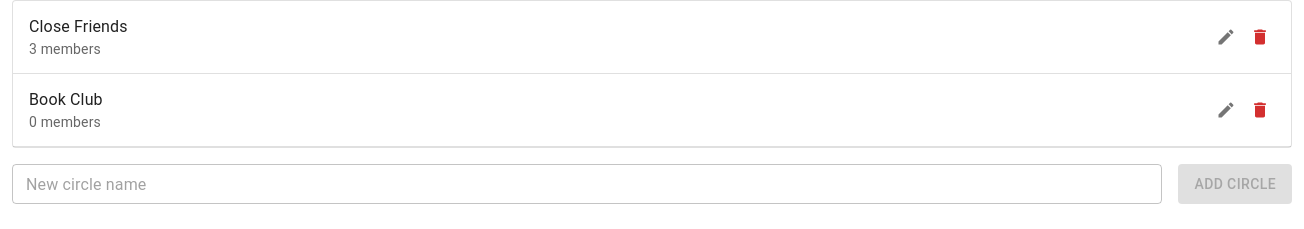
a duplicate-name rename failure shows an inline error and stays in edit mode
Click the button named "Edit" in the row of "Close Friends": {"x": 1226, "y": 37} 1211,22 -> 1241,52
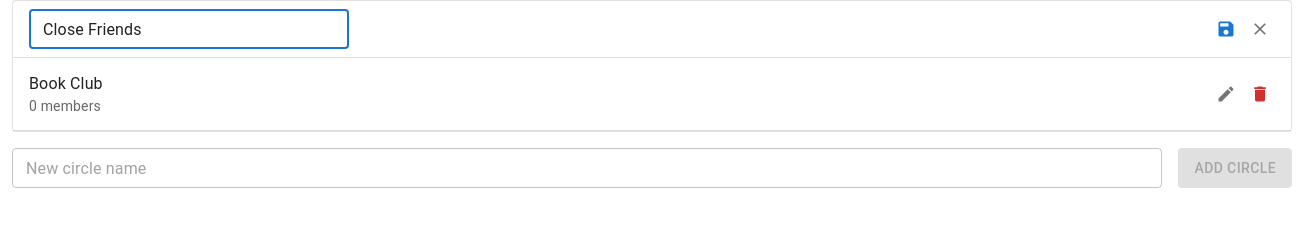
Replace the text in the field showing "Close Friends" with "Book Club": {"x": 189, "y": 29} 29,9 -> 349,49
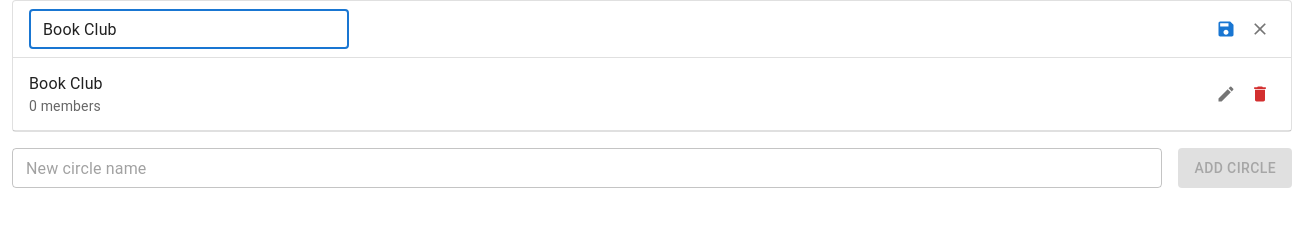
Click the button named "Save": {"x": 1226, "y": 29} 1211,14 -> 1241,44
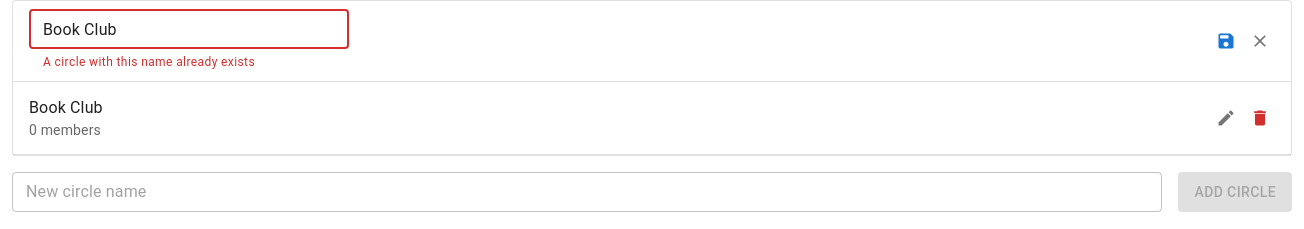
Now the text "A circle with this name already exists" is shown, box 43,55 -> 255,69
